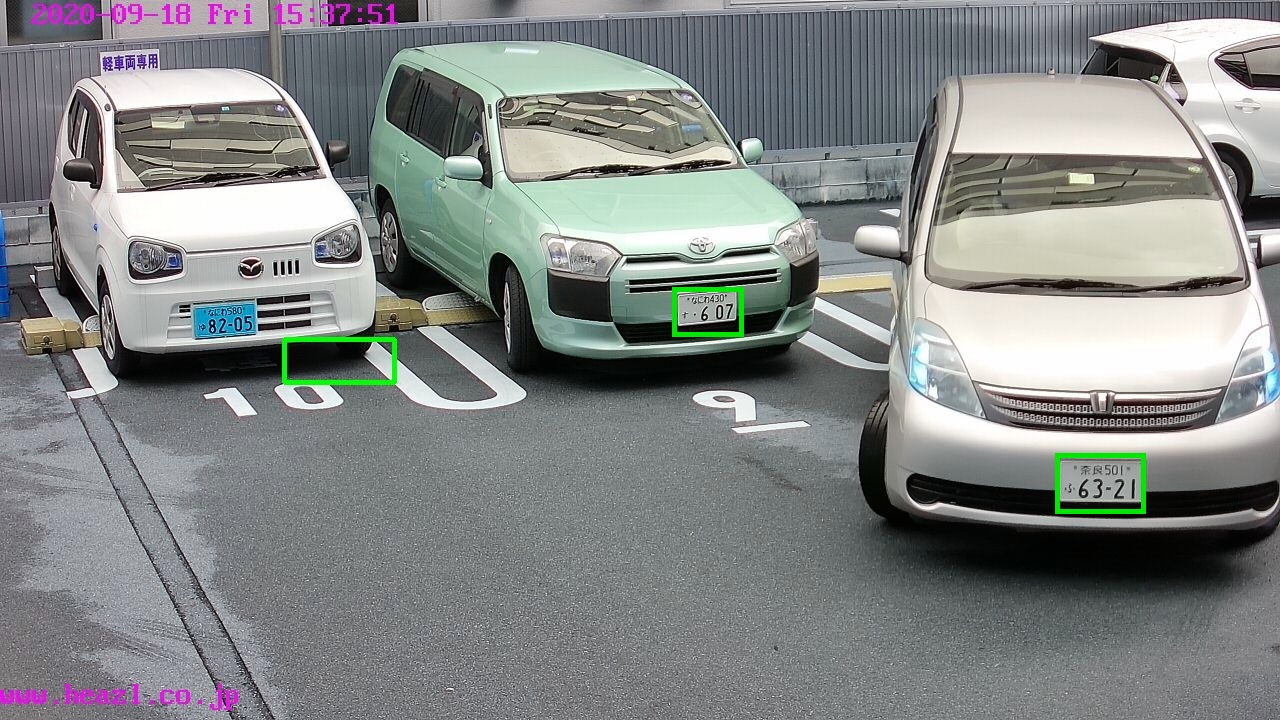number_plate: (1057, 459, 1145, 502), (675, 290, 739, 323), (196, 303, 258, 333)
